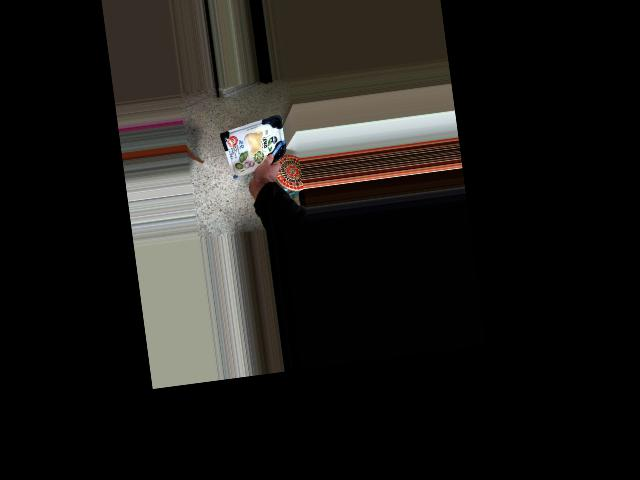cheese: (226, 132, 280, 187)
